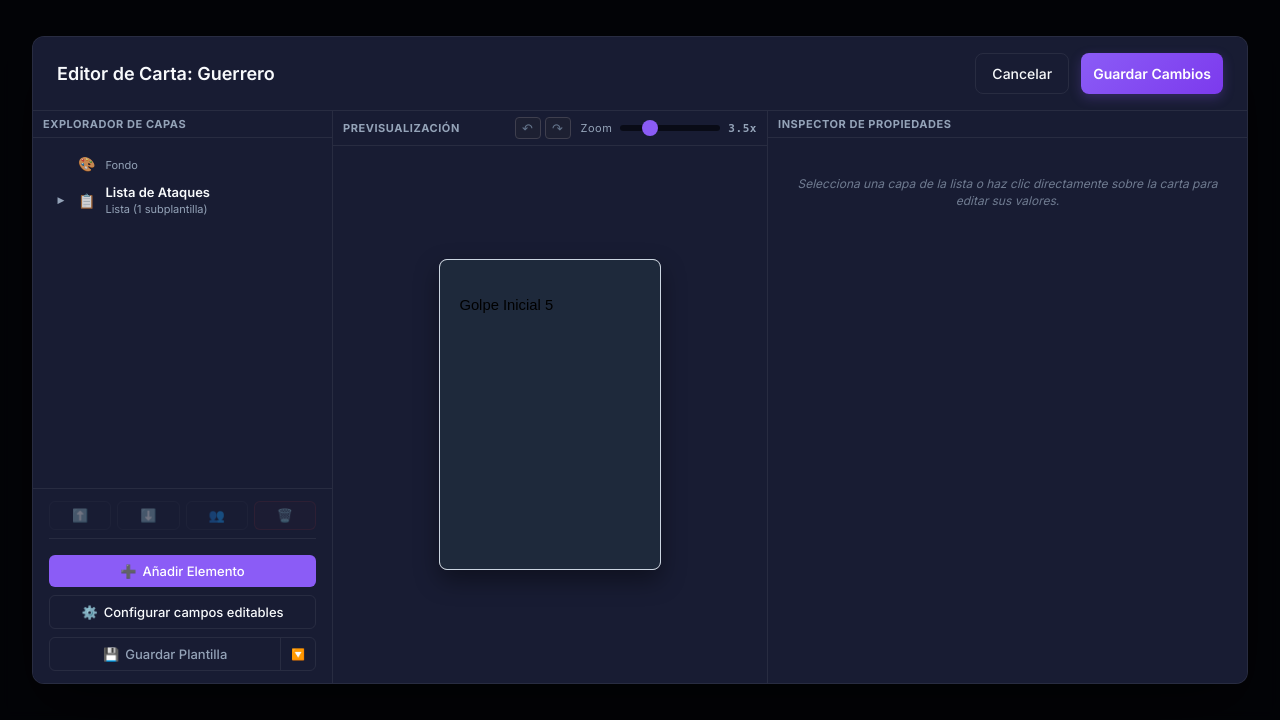
Test case: SRS-072: Elemento Lista con Subplantillas Hijas y Gestión Dinámica › RF-2: Inspector de Lista en EditCardModal › debe mostrar el icono 📋 y la sección de lista cuando se selecciona la capa lista
Expected: the text "Lista de Ataques" is shown, [106, 184, 210, 200]
Note: Clicar directamente en el elemento de jerarquía para seleccionarlo
Click the text "Lista de Ataques" at (132, 200), box [54, 184, 210, 216]
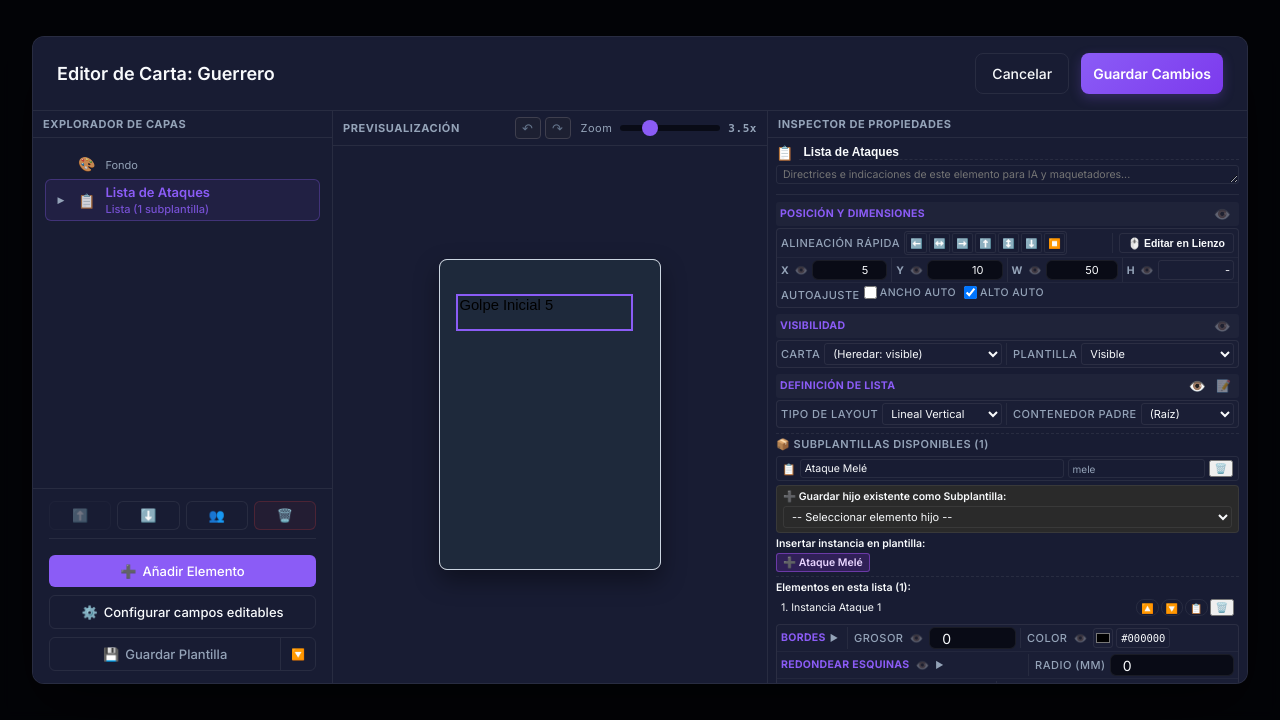
Expected: the heading "Definición de Lista" is shown, [780, 380, 895, 392]
Expected: the text "📦 Subplantillas Disponibles (1)" is shown, [776, 437, 989, 451]
Expected: the field showing "Ataque Melé" is shown, [800, 459, 1064, 478]
